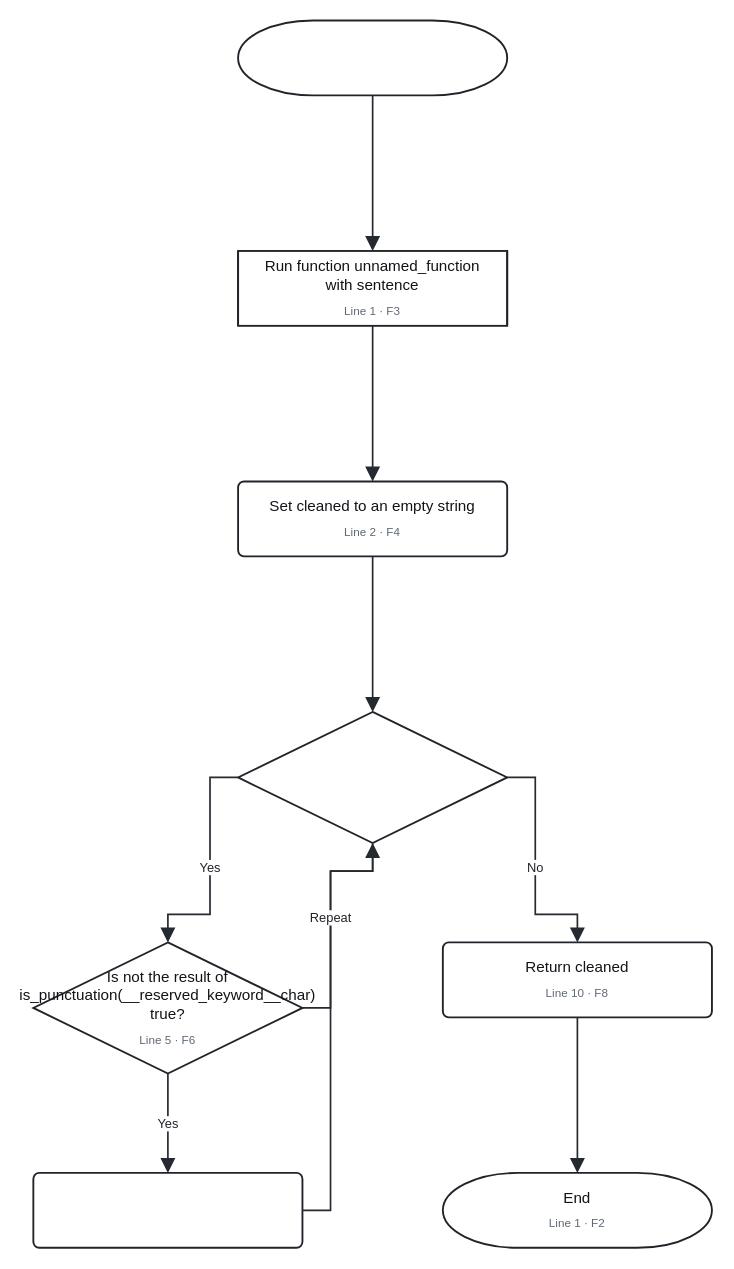
Some shapes in this 734 by 1269 pixel diagram are drawn without their labels. The shapes that lost their labels are listed below. From the top down, each one's centre as x and y in pixels, then its label:
At (372,57): "Start Line 1 · F1".
At (372,776): "For each __reserved_keyword__char in sentence Line 4 · F5".
At (167,1209): "Set cleaned to cleaned plus __reserved_keyword__char Line 6 · F7".
